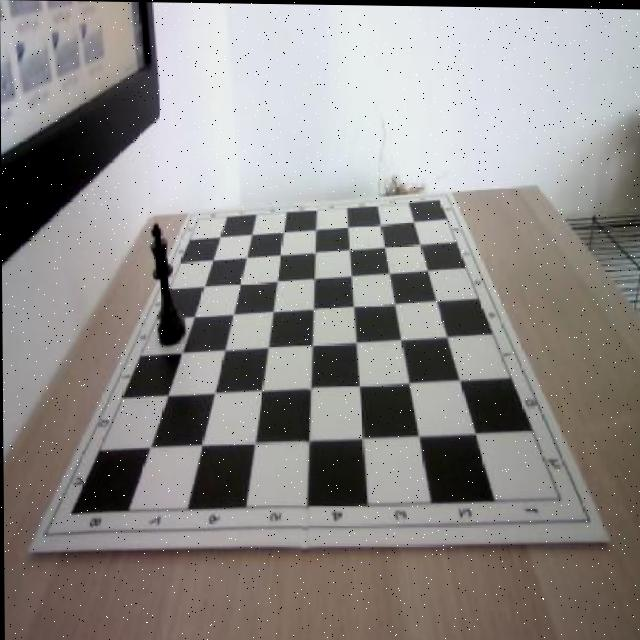black-bishop: (146, 221, 188, 347)
